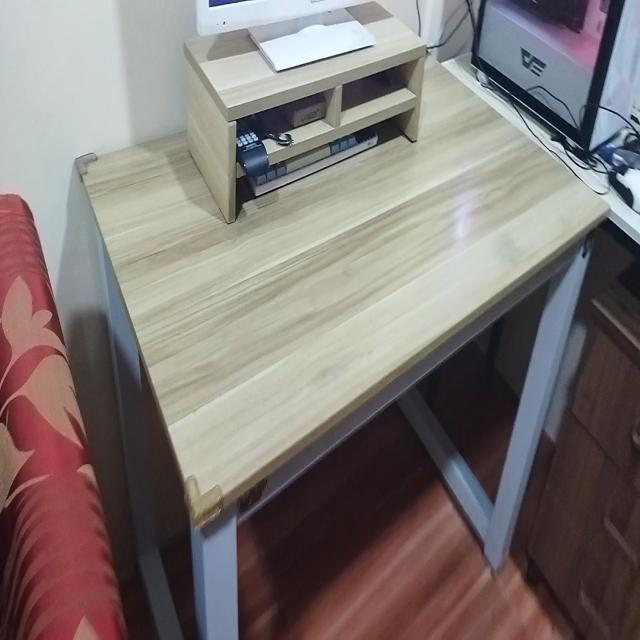table: (71, 0, 608, 640)
